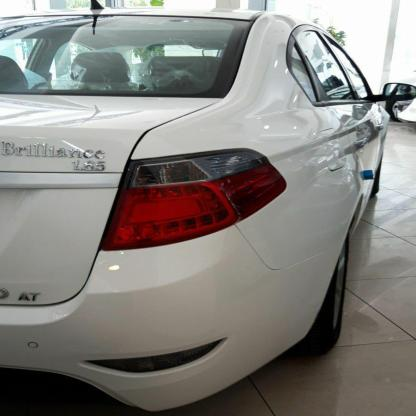Car: (0, 4, 416, 416)
